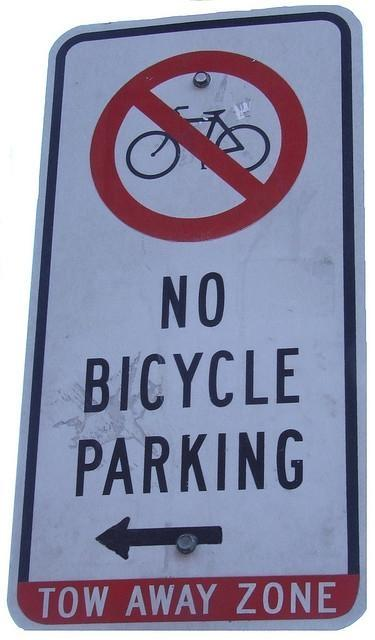bicycle: (125, 106, 270, 178)
